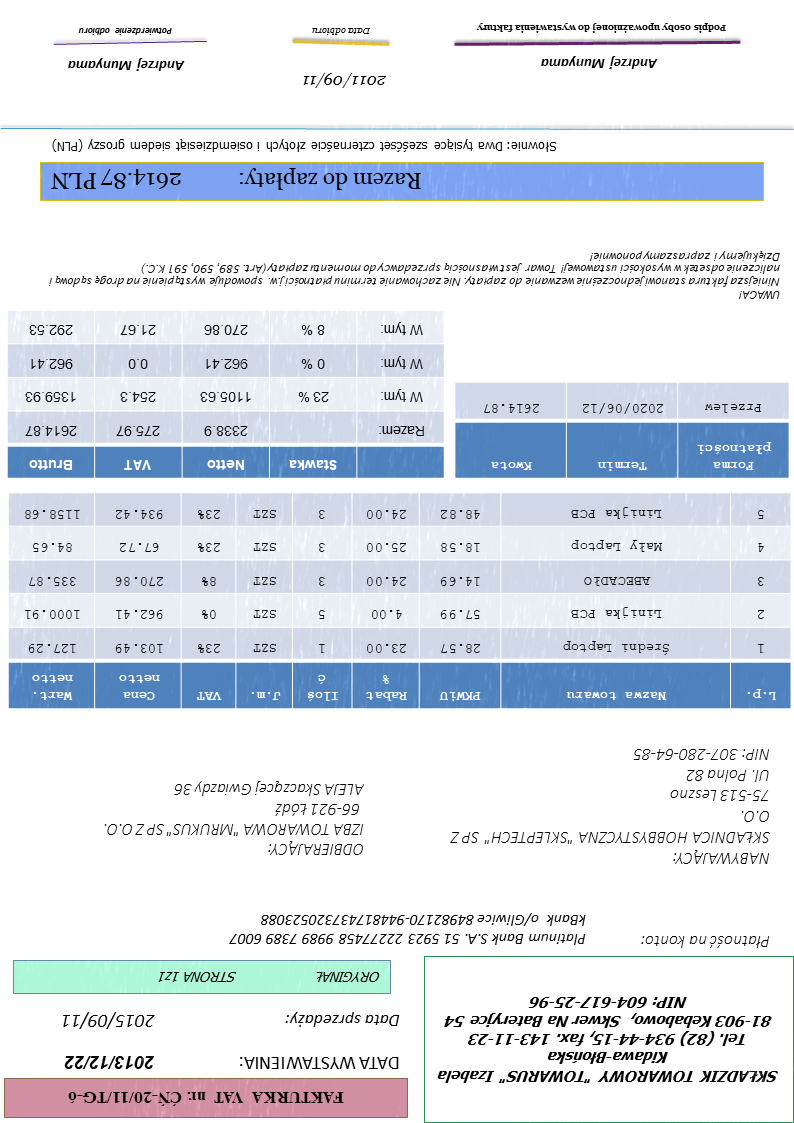Table: (7, 491, 793, 710), (5, 306, 447, 482), (453, 381, 791, 480)
TextBox: (446, 744, 774, 871), (43, 249, 783, 304), (432, 991, 781, 1089), (102, 777, 367, 861), (227, 909, 590, 949), (50, 133, 560, 158), (49, 165, 424, 197), (67, 1087, 349, 1110), (156, 967, 383, 990), (240, 1051, 404, 1077), (475, 21, 730, 36), (283, 1009, 403, 1033), (640, 932, 773, 953), (60, 1009, 158, 1034), (535, 54, 663, 73), (66, 55, 187, 74), (62, 1051, 158, 1074), (301, 71, 391, 92), (78, 24, 176, 39), (309, 22, 374, 40)
